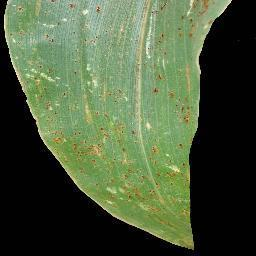Corn_Common_Rust: (124, 0, 233, 252), (1, 0, 123, 224)
